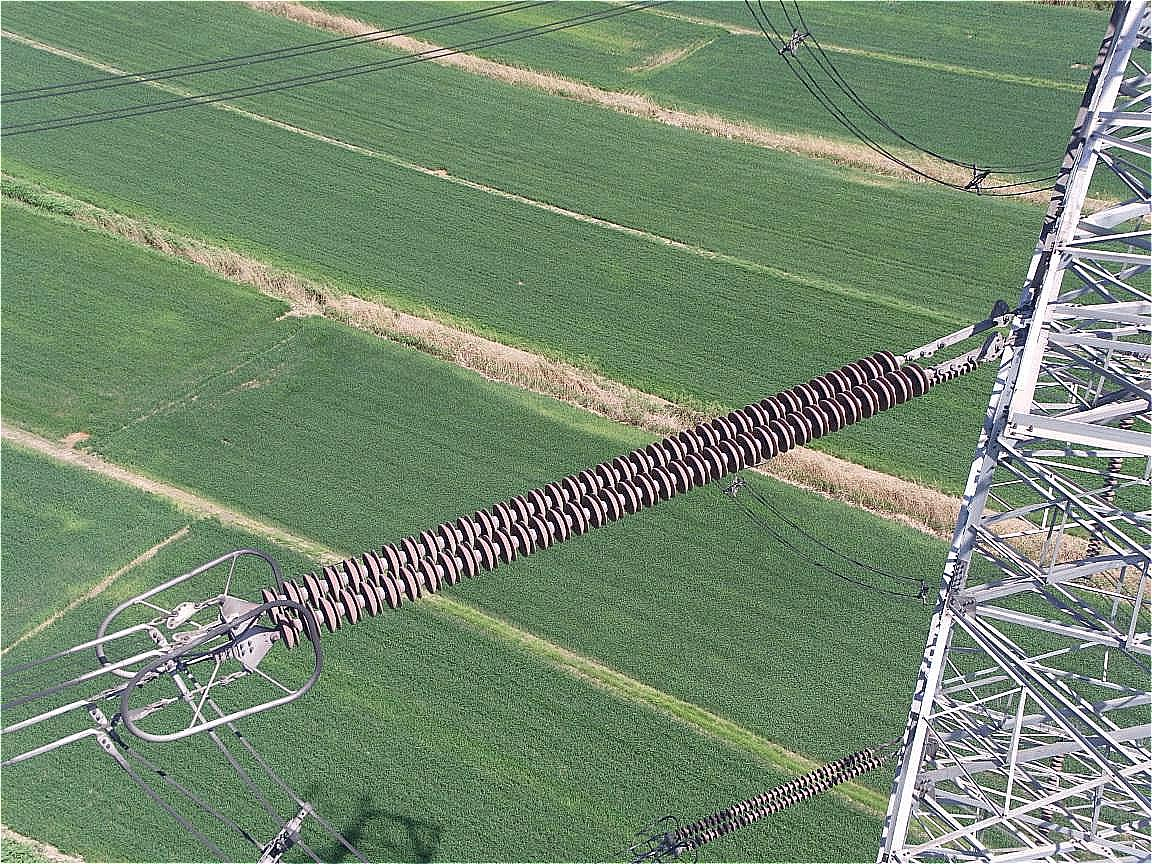insultor2: (216, 334, 975, 673)
